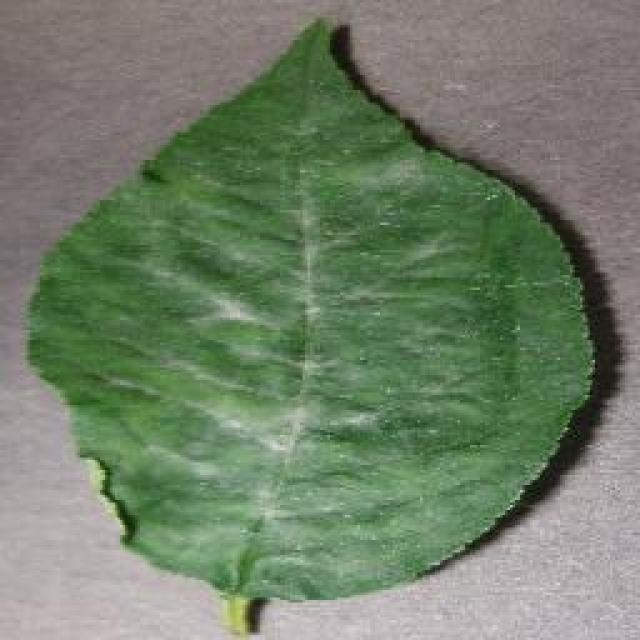Cherry___Powdery_mildew: (5, 0, 605, 640)
